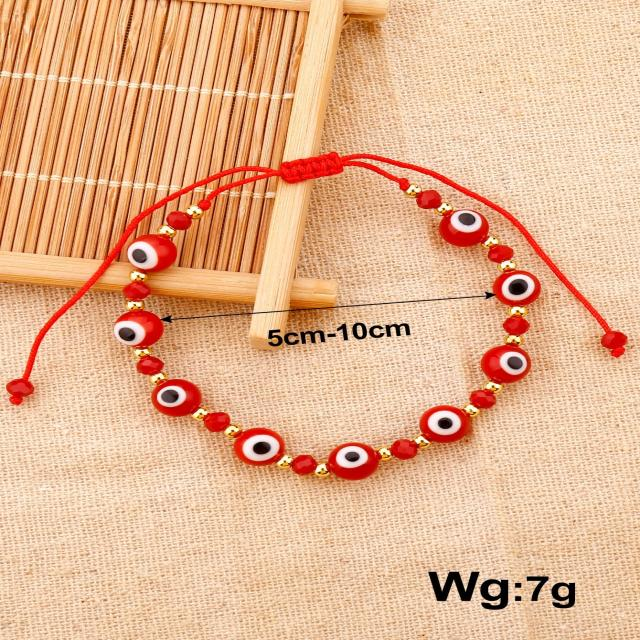bracelet: (14, 78, 640, 501)
